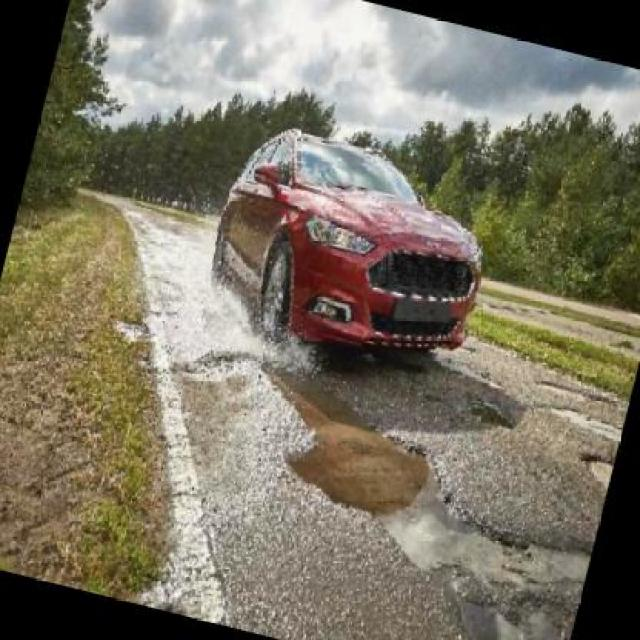pothole1: (278, 409, 470, 537), (544, 399, 624, 443), (463, 393, 522, 430), (573, 447, 615, 490)
